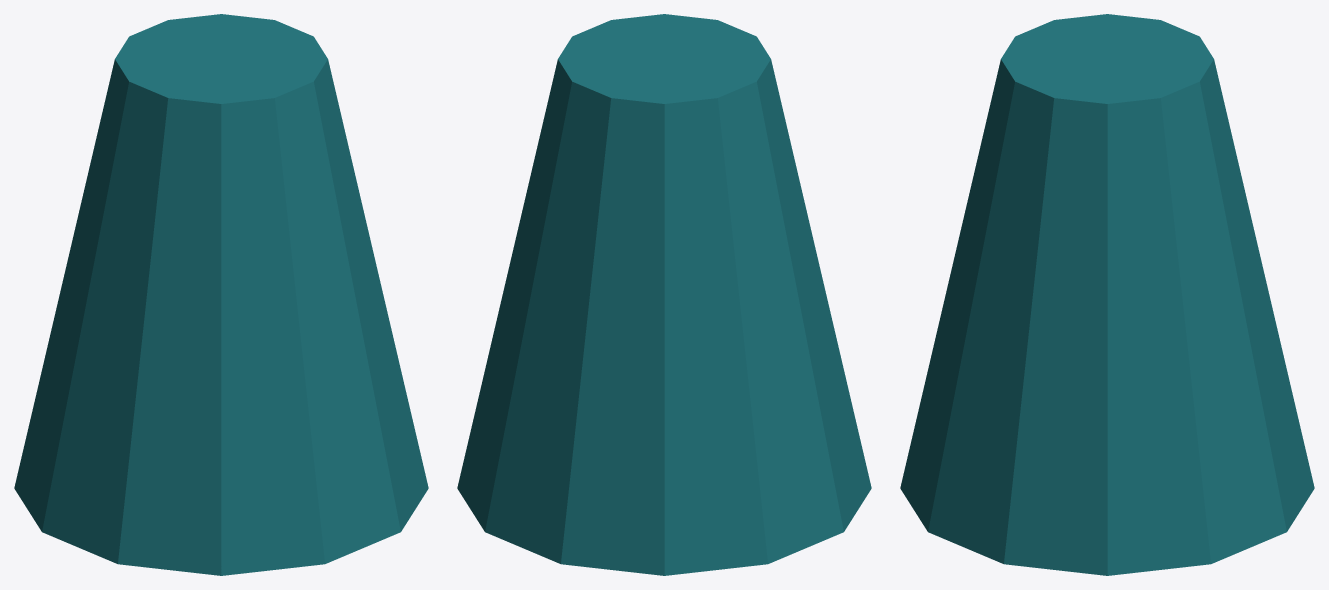
File: SM_Interact_ApprenticeCloak.fbx
3 views of the same model, side by side, from view 1: azimuth 30°, elevation 25°; view 2: azimuth 150°, elevation 25°; view 3: azimuth 270°, elevation 25° (orthographic).
Parts seen in each view (by area): view 1: UE_FIX_SM_Interact_ApprenticeCloak; view 2: UE_FIX_SM_Interact_ApprenticeCloak; view 3: UE_FIX_SM_Interact_ApprenticeCloak.
Boxes of the visible parts, x1,y1,x2,y2 form: UE_FIX_SM_Interact_ApprenticeCloak: [14, 14, 428, 575]; UE_FIX_SM_Interact_ApprenticeCloak: [457, 14, 871, 575]; UE_FIX_SM_Interact_ApprenticeCloak: [900, 14, 1314, 575].
Size of the model in its own units: 0.7 by 0.7 by 0.8.
